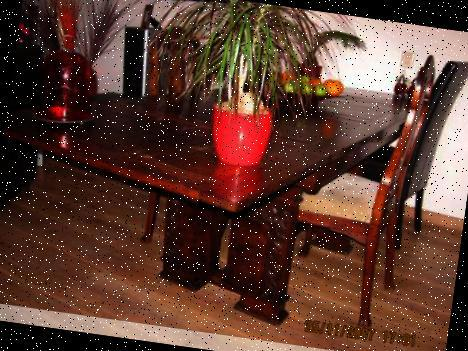Mesa: (0, 30, 422, 333)
Silla: (273, 34, 444, 339), (302, 37, 467, 262)
